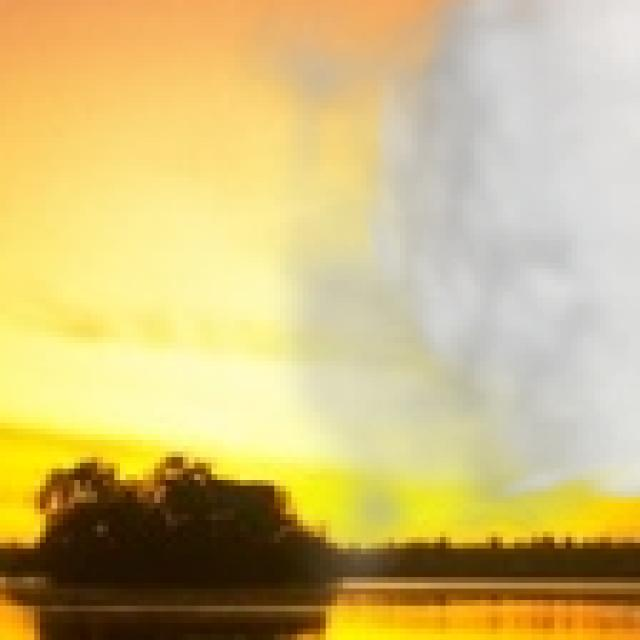smoke: (223, 0, 640, 634)
